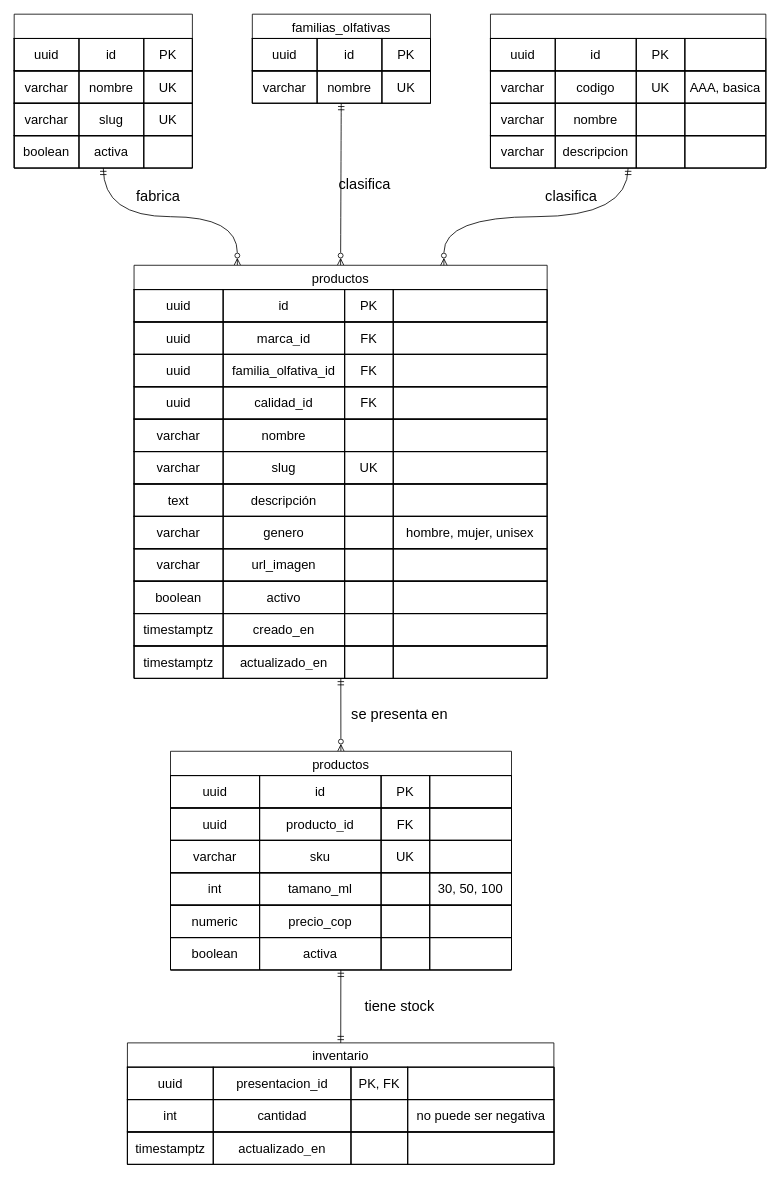
Some shapes in this 780 by 1179 pixel diagram are drawn without their labels. Here are the shapes that lost their labels. From the top down, the box of each, then its label:
(13, 13, 192, 168): marcas
(490, 13, 766, 168): calidades
